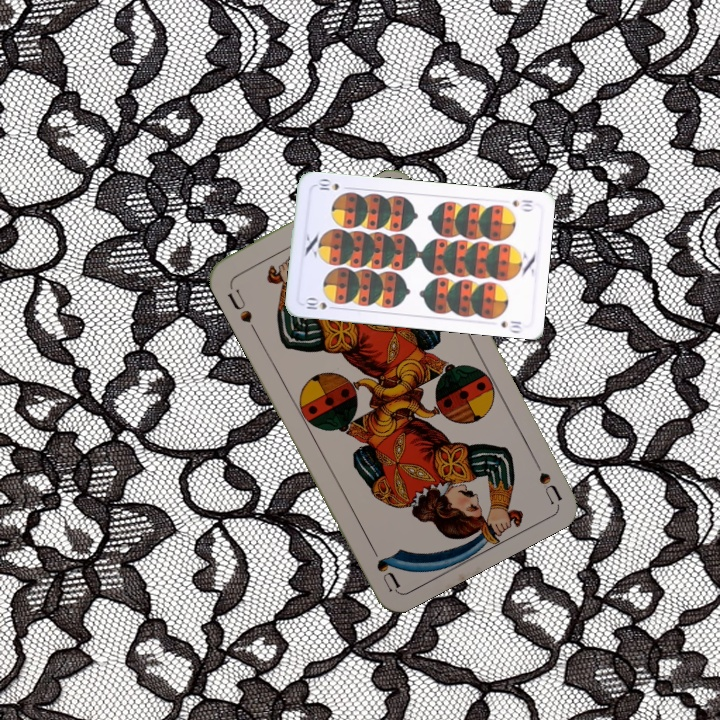S10: (301, 294, 340, 312), (508, 196, 536, 213)
SU: (526, 448, 564, 505), (223, 279, 255, 326)
